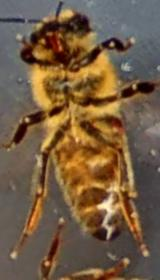varroa_mite: (93, 103, 131, 142)
